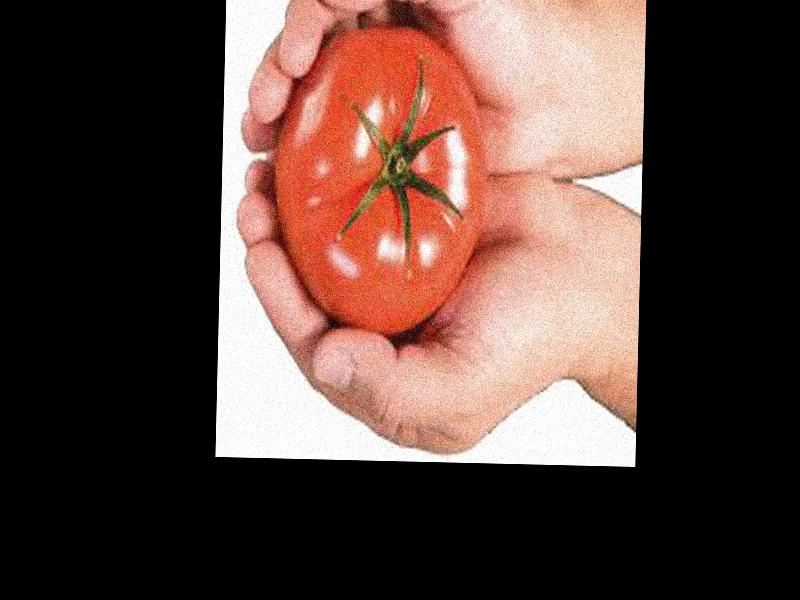Tomato: (273, 21, 486, 337)
